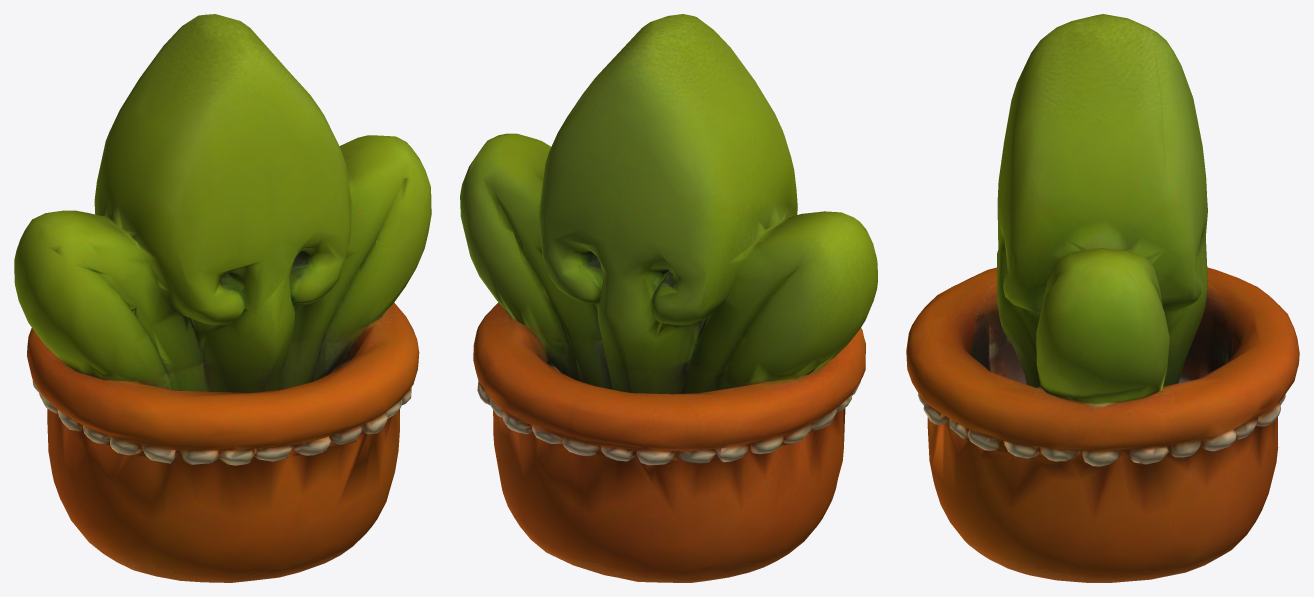
Rendered from item-scent-herb.glb.
The picture shows the model from 3 angles, left to right: view 1: azimuth 30°, elevation 25°; view 2: azimuth 150°, elevation 25°; view 3: azimuth 270°, elevation 25°; orthographic projection.
Visible parts, largest first — view 1: Mesh_0; view 2: Mesh_0; view 3: Mesh_0.
Boxes of the visible parts, <box> form: Mesh_0: <box>14,14,431,582</box>; Mesh_0: <box>460,14,877,582</box>; Mesh_0: <box>906,14,1299,582</box>.
Size of the model in its own units: 1.62 by 2 by 1.39.
1 material, 1 textured.
